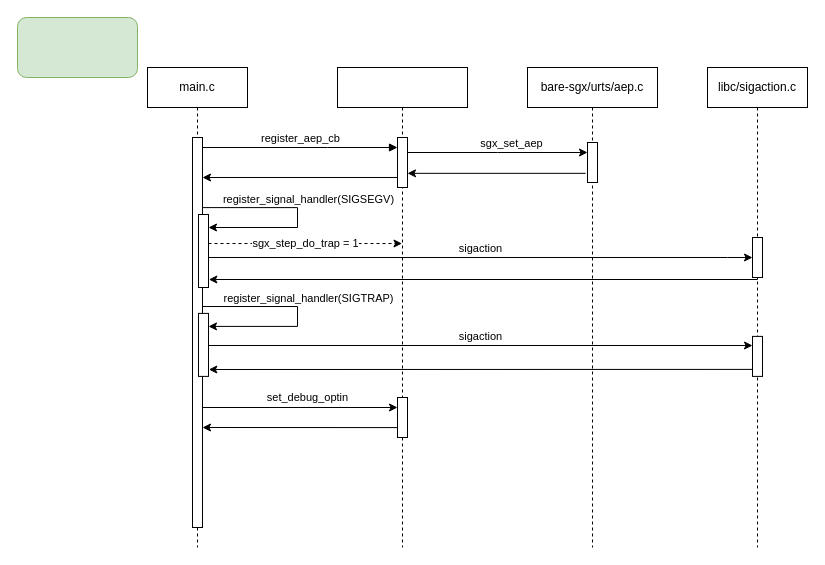
Some shapes in this 825 by 565 pixel diagram are drawn without their labels. The shapes that lost their labels are listed below. From the top down, each one's box as (x1, y1, x2, y2) in pixels, then its label:
(16, 16, 138, 78): SETUP
(336, 66, 468, 548): libsgxstep/enclave.c
